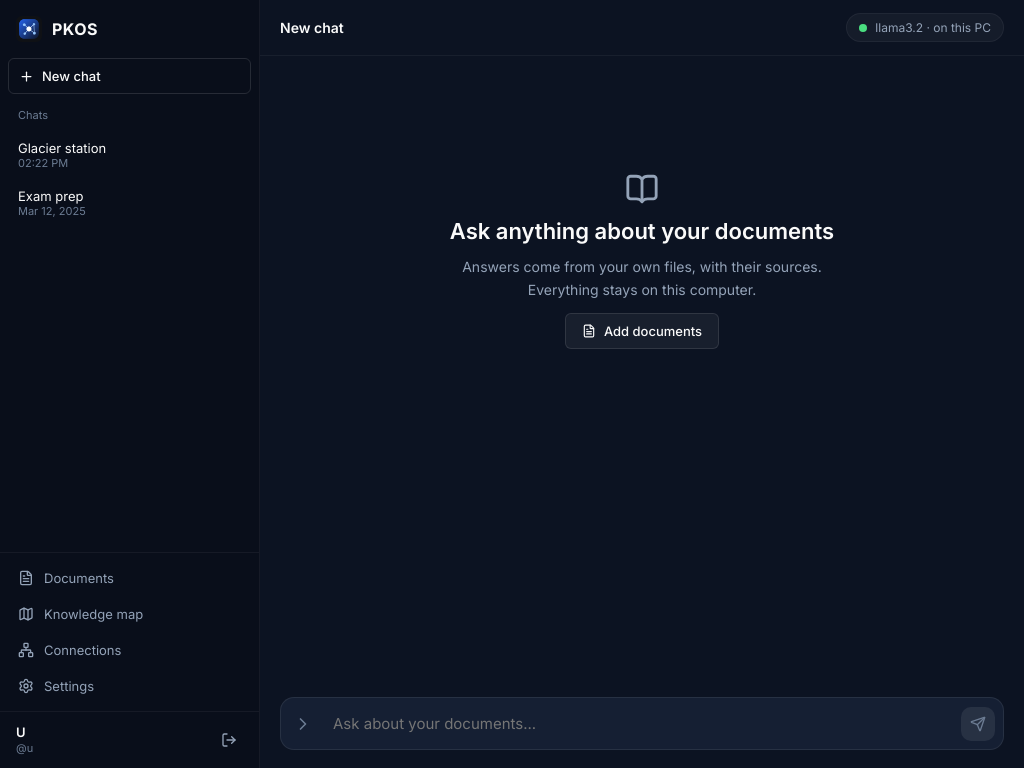
Test: chat list › deletes a chat only after confirming, and leaves the open chat when it is deleted
This screenshot has width=1024, height=768.
Expected: the navigation bar "PKOS" is shown, [0,0,260,767]
Click the text "Glacier station" at (62, 148), box [18,140,106,156]
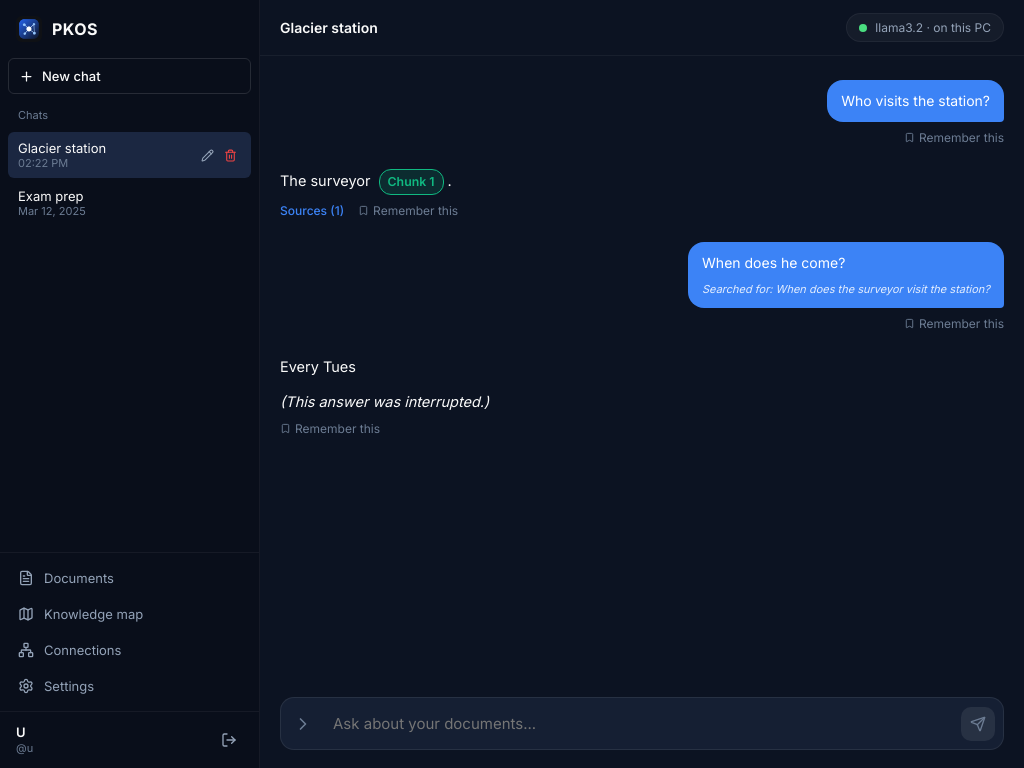
Expected: the text "Who visits the station?" is shown, [827,80,1004,122]
Click the button named "Delete Glacier station" at (230, 155), box [220,144,241,166]
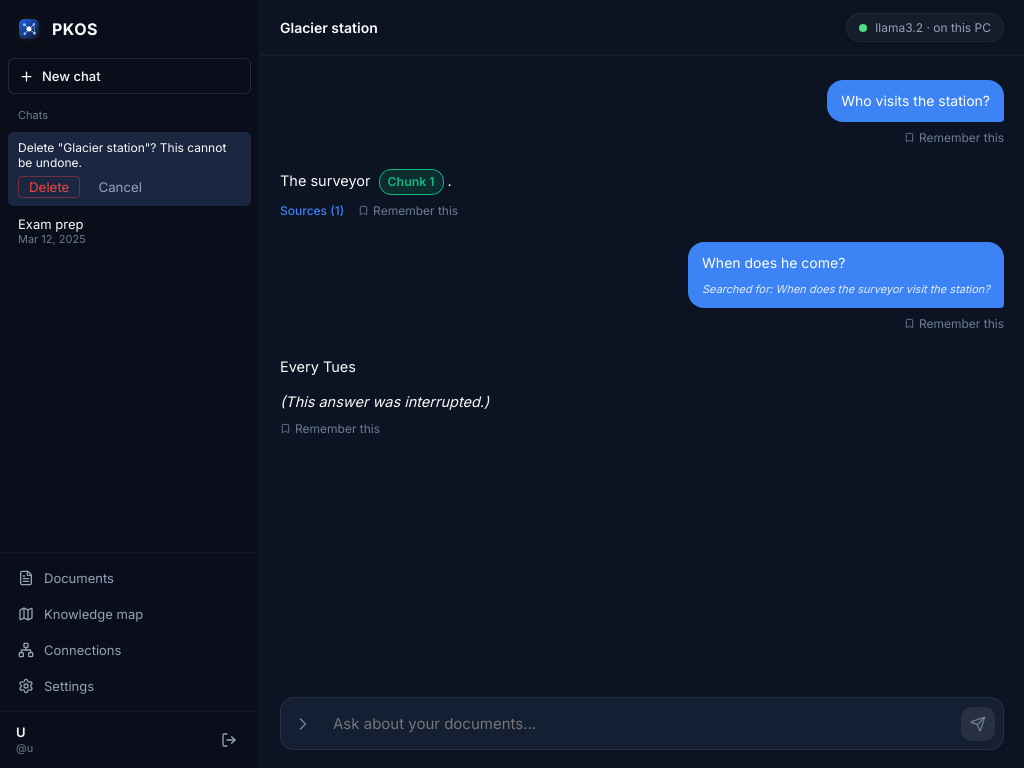
Expected: the text "Delete \"Glacier station\"? This cannot be undone." is shown, [18,140,241,170]
Click the button "Delete" at (49, 187), box [18,176,80,198]
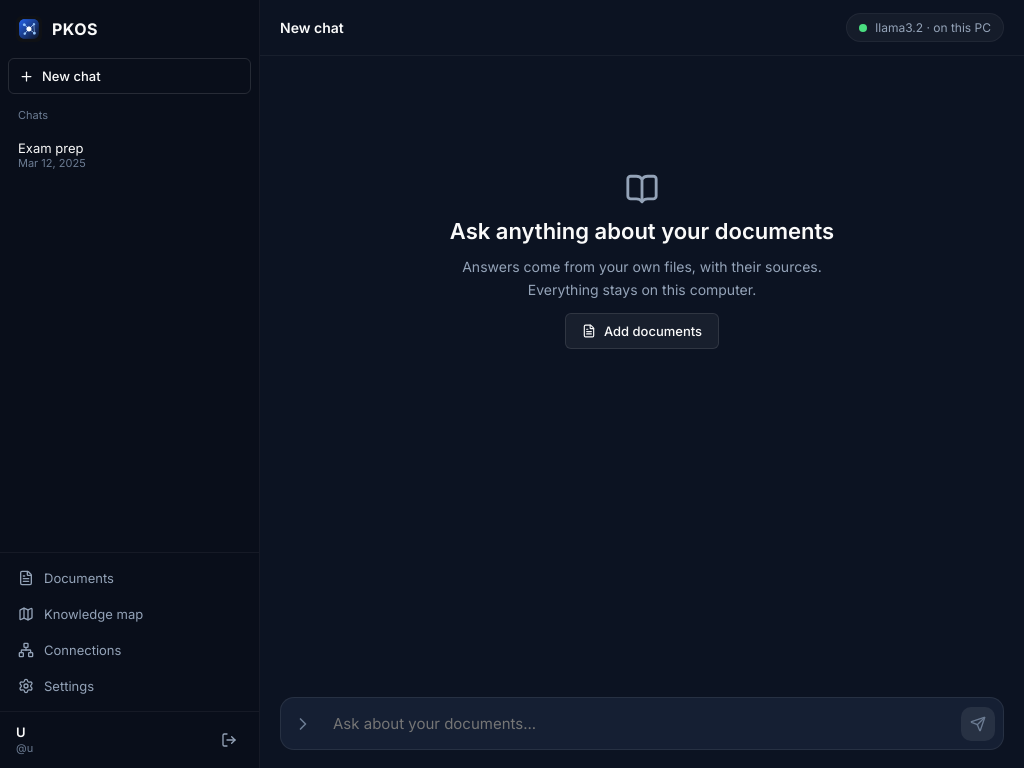
Expected: the text "Glacier station" is gone
Expected: the text "Who visits the station?" is gone
Expected: the text with test id "chat-title" reads "New chat", [280,19,344,36]
